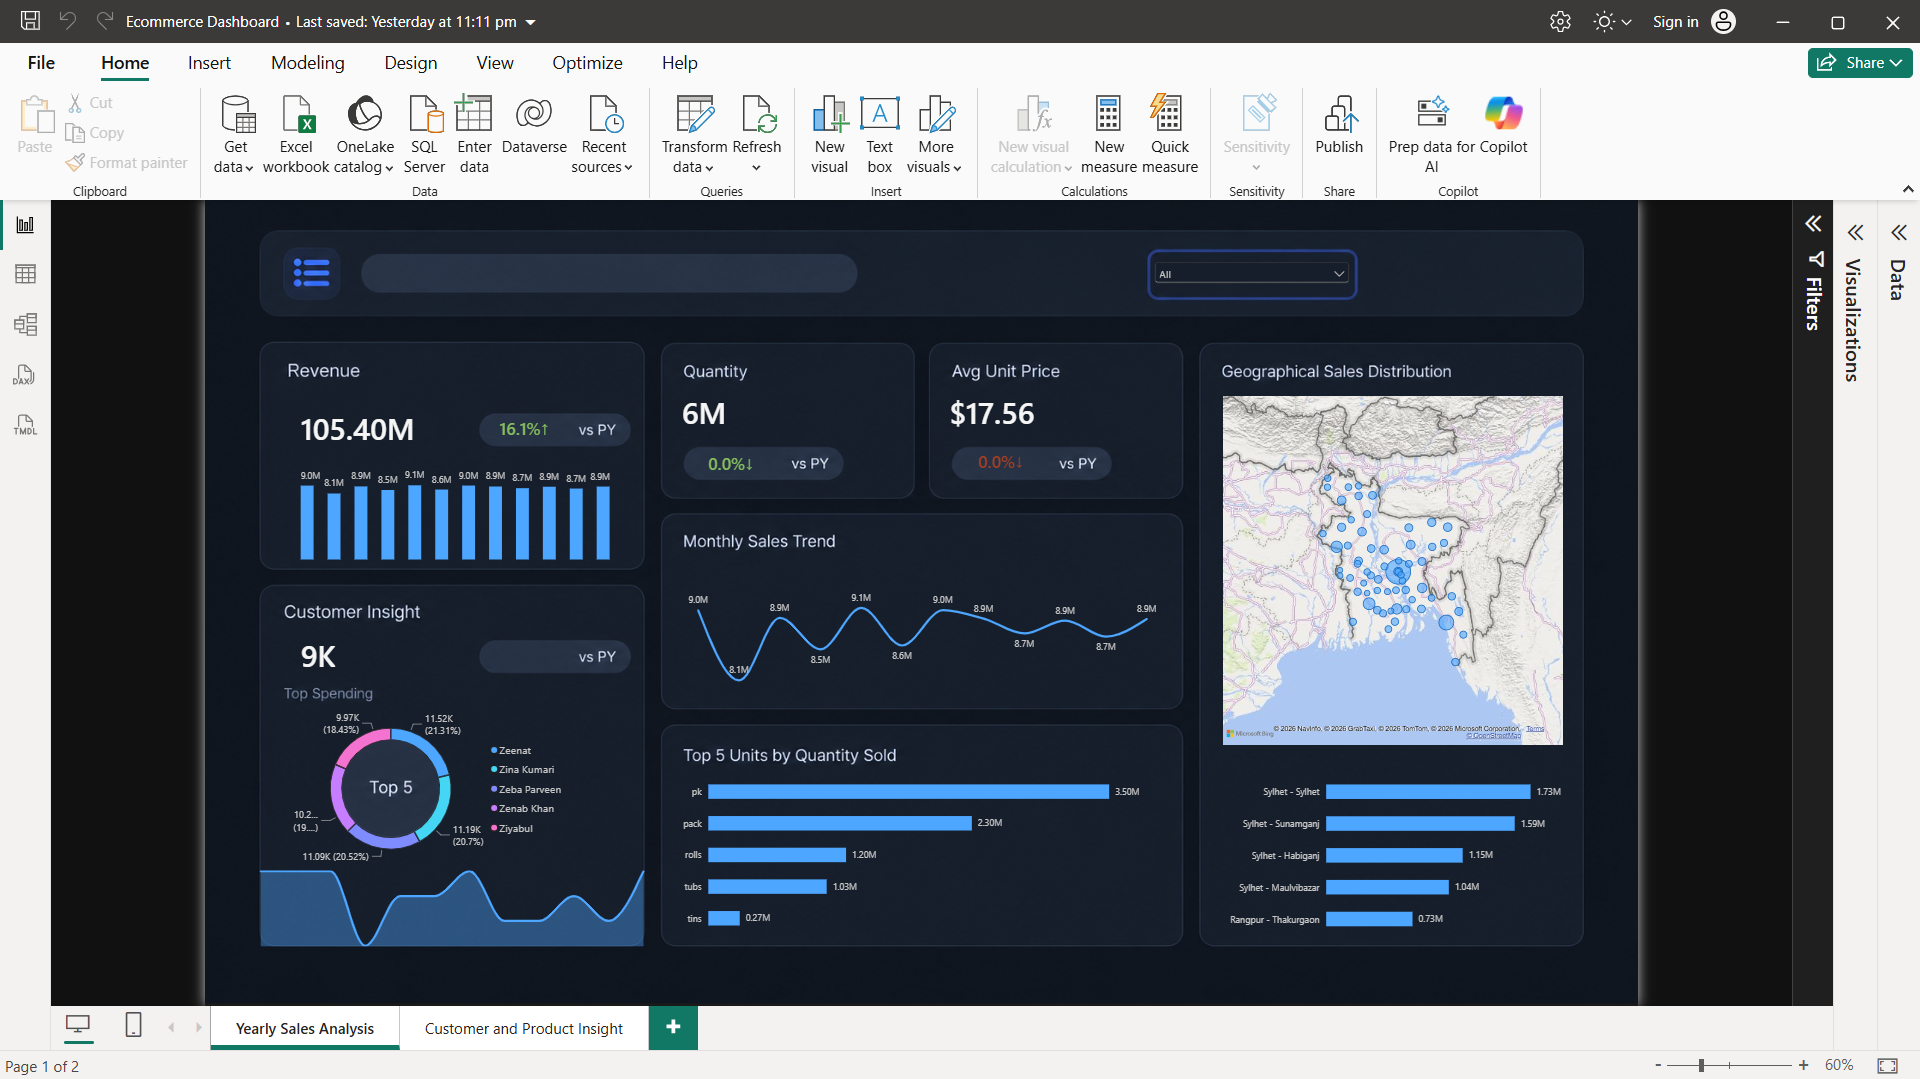

What the dashboard file says about the page in this screenshot:
{"tool":"powerbi","page":{"name":"Yearly Sales Analysis","canvas":[1920,1080],"ordinal":0},"visuals":[{"type":"cardVisual","fields":{"Data":["Table.TotalSales"]},"box":[112.2,284.4,193.3,41.7],"z":0},{"type":"cardVisual","fields":{"Data":["Table.%YOYSales"]},"box":[377.8,288.9,116.7,34.4],"z":1000},{"type":"clusteredColumnChart","fields":{"Category":["time_dim.date_key.Variation.Date Hierarchy.Month"],"Y":["fact_table.TotalSales"]},"box":[112.2,334.4,446.7,163.3],"z":2000},{"type":"slicer","fields":{"Values":["time_dim.date_key.Variation.Date Hierarchy.Year"]},"box":[1268.6,79.3,270,45],"z":3000},{"type":"cardVisual","fields":{"Data":["fact_table.TotalQuantity"]},"box":[623.3,263.3,193.3,41.7],"z":4000},{"type":"cardVisual","fields":{"Data":["fact_table.%YOYQuantity"]},"box":[658.5,334.6,116.7,34.4],"z":5000},{"type":"cardVisual","fields":{"Data":["fact_table.%YOYAvgPrice"]},"box":[1020,333.8,116.7,34.4],"z":6000},{"type":"cardVisual","fields":{"Data":["fact_table.AvgUnitPrice"]},"box":[981.7,263.3,193.3,41.7],"z":7000},{"type":"lineChart","fields":{"Category":["time_dim.date_key.Variation.Date Hierarchy.Month"],"Y":["fact_table.TotalSales"]},"box":[623.3,481.7,676.7,185],"z":8000},{"type":"cardVisual","fields":{"Data":["fact_table.Customers"]},"box":[111.7,590,193.3,41.7],"z":9000},{"type":"donutChart","fields":{"Category":["customer_dim.name"],"Y":["fact_table.TotalSales"]},"box":[100,631.7,402.5,315.8],"z":10000},{"type":"stackedAreaChart","fields":{"Category":["time_dim.date.Variation.Date Hierarchy.Month"],"Y":["fact_table.Customers"]},"box":[40,876,582,140],"z":11000},{"type":"clusteredBarChart","fields":{"Category":["fact_table.unit"],"Y":["fact_table.TotalSales"]},"box":[621.4,744.3,647.1,262.9],"z":12000},{"type":"map","fields":{"Category":["store_dim.store_location"],"Size":["fact_table.TotalSales"]},"box":[1347.5,247.5,487.5,497.5],"z":13000},{"type":"clusteredBarChart","fields":{"Category":["store_dim.store_location"],"Y":["fact_table.TotalSales"]},"box":[1348,744,487,264],"z":15000}]}

Visuals, with their boxes on the page's 1920x1080 design canvas (x1, y1, x2, y2). These are canvas units, not pixel positions in the 1920x1079 screenshot, which may show the page scaled, cropped or inside an application window:
cardVisual - Table.TotalSales: 112/284/306/326
cardVisual - Table.%YOYSales: 378/289/494/323
clusteredColumnChart - time_dim.date_key.Variation.Date Hierarchy.Month x fact_table.TotalSales: 112/334/559/498
slicer - time_dim.date_key.Variation.Date Hierarchy.Year: 1269/79/1539/124
cardVisual - fact_table.TotalQuantity: 623/263/817/305
cardVisual - fact_table.%YOYQuantity: 658/335/775/369
cardVisual - fact_table.%YOYAvgPrice: 1020/334/1137/368
cardVisual - fact_table.AvgUnitPrice: 982/263/1175/305
lineChart - time_dim.date_key.Variation.Date Hierarchy.Month x fact_table.TotalSales: 623/482/1300/667
cardVisual - fact_table.Customers: 112/590/305/632
donutChart - customer_dim.name x fact_table.TotalSales: 100/632/502/948
stackedAreaChart - time_dim.date.Variation.Date Hierarchy.Month x fact_table.Customers: 40/876/622/1016
clusteredBarChart - fact_table.unit x fact_table.TotalSales: 621/744/1268/1007
map - store_dim.store_location x fact_table.TotalSales: 1348/248/1835/745
clusteredBarChart - store_dim.store_location x fact_table.TotalSales: 1348/744/1835/1008
